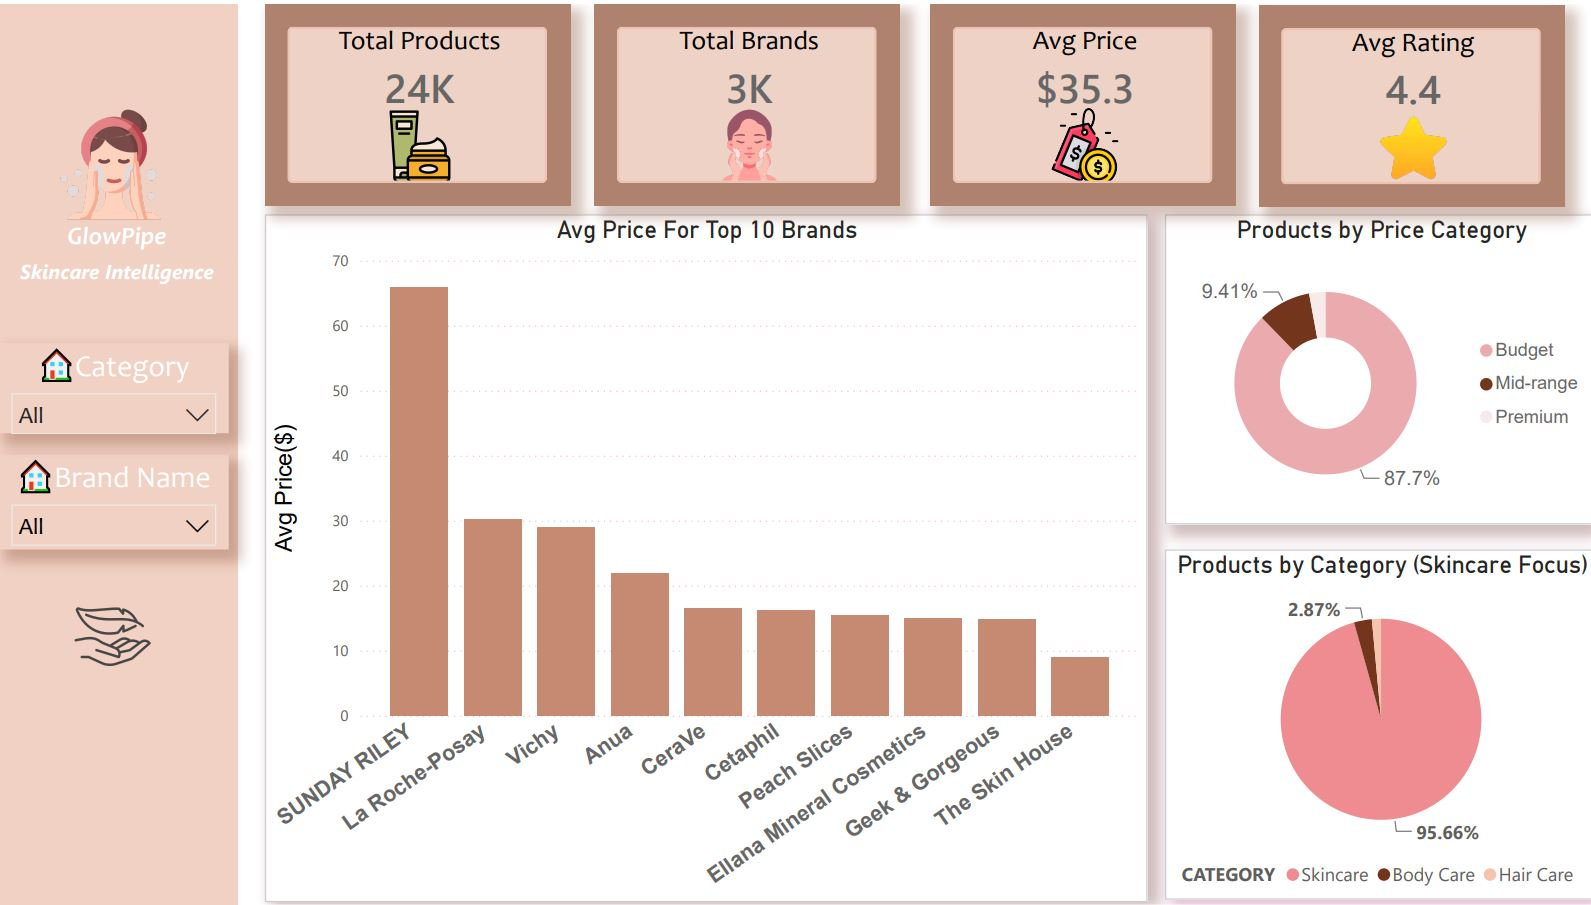

What the dashboard file says about the page in this screenshot:
{"tool":"powerbi","page":{"name":"Products Overview","canvas":[1280,720],"ordinal":0},"visuals":[{"type":"columnChart","title":"Avg Price For Top 10 Brands","fields":{"Category":["DIM_BRAND.BRAND_NAME"],"Y":["DIM_BRAND.Avg Price By Brand"]},"box":[212.8,168.5,706.5,549.8],"z":0},{"type":"pieChart","title":"Products by Category (Skincare Focus)","fields":{"Y":["DIM_PRODUCTS.Total Products"],"Category":["DIM_CATEGORY.CATEGORY"]},"box":[934,436.4,346,280.2],"z":1000},{"type":"donutChart","title":"Products by Price Category","fields":{"Category":["DIM_PRODUCTS.Price Category"],"Y":["CountNonNull(DIM_PRODUCTS.PRODUCT_ID)"]},"box":[934,168.4,346,248],"z":3000},{"type":"shape","box":[0,0,191,721.2],"z":4000},{"type":"image","box":[23.6,82.8,136,90.2],"z":5000},{"type":"textbox","title":"GlowPipe","box":[0,172.9,189.2,54.7],"z":6000},{"type":"slicer","title":"      🏠Category","fields":{"Values":["DIM_CATEGORY.CATEGORY"]},"box":[0,270.7,184.3,72],"z":7000},{"type":"slicer","title":"🏠Brand Name","fields":{"Values":["DIM_BRAND.BRAND_NAME"]},"box":[0,360,184.3,76.3],"z":8000},{"type":"image","box":[16.3,473,150.8,65],"z":9000},{"type":"cardVisual","fields":{"Data":["DIM_PRODUCTS.Total Products"]},"box":[213.1,0,244.8,161.3],"z":10000},{"type":"cardVisual","fields":{"Data":["DIM_BRAND.Total Brands"]},"box":[476.6,0,244.8,161.3],"z":11000},{"type":"cardVisual","fields":{"Data":["DIM_PRODUCTS.Avg Price"]},"box":[745.9,0,244.8,161.3],"z":12000},{"type":"cardVisual","fields":{"Data":["DIM_PRODUCTS.Avg Rating"]},"box":[1009.4,1.4,244.8,161.3],"z":13000}]}

Visuals, with their boxes in screenshot pixels (x1, y1, x2, y2), scaled from the page's 1280x720 canvas onto the 1591x905 screenshot:
"Avg Price For Top 10 Brands" columnChart: bbox=(265, 212, 1143, 903)
"Products by Category (Skincare Focus)" pieChart: bbox=(1161, 549, 1590, 901)
"Products by Price Category" donutChart: bbox=(1161, 212, 1590, 523)
shape: bbox=(0, 0, 237, 904)
image: bbox=(29, 104, 198, 217)
"GlowPipe" textbox: bbox=(0, 217, 235, 286)
"      🏠Category" slicer: bbox=(0, 340, 229, 431)
"🏠Brand Name" slicer: bbox=(0, 452, 229, 548)
image: bbox=(20, 595, 208, 676)
cardVisual - DIM_PRODUCTS.Total Products: bbox=(265, 0, 569, 203)
cardVisual - DIM_BRAND.Total Brands: bbox=(592, 0, 897, 203)
cardVisual - DIM_PRODUCTS.Avg Price: bbox=(927, 0, 1231, 203)
cardVisual - DIM_PRODUCTS.Avg Rating: bbox=(1255, 2, 1559, 205)
